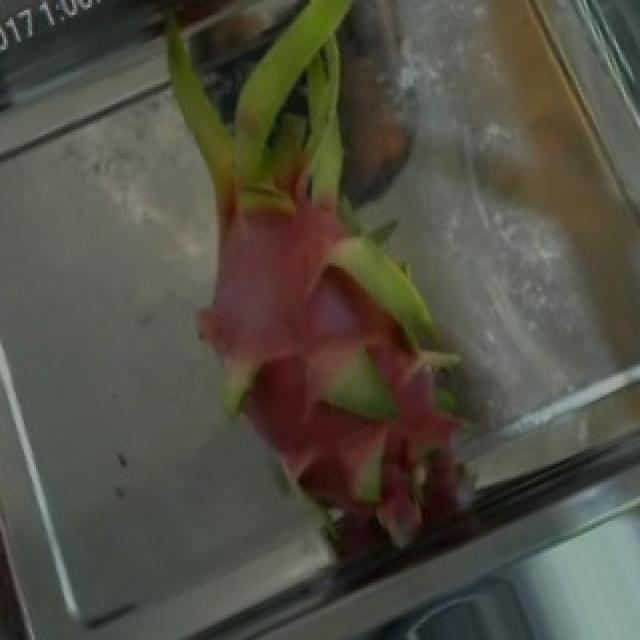fruit: (132, 142, 554, 606)
